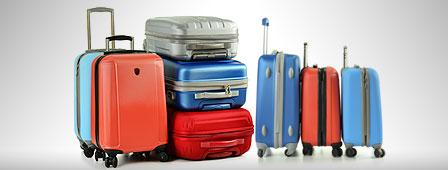luggage: (87, 34, 171, 165), (253, 17, 302, 161), (297, 42, 345, 160), (341, 46, 388, 160), (141, 15, 242, 61), (169, 109, 255, 163), (163, 61, 249, 109)
